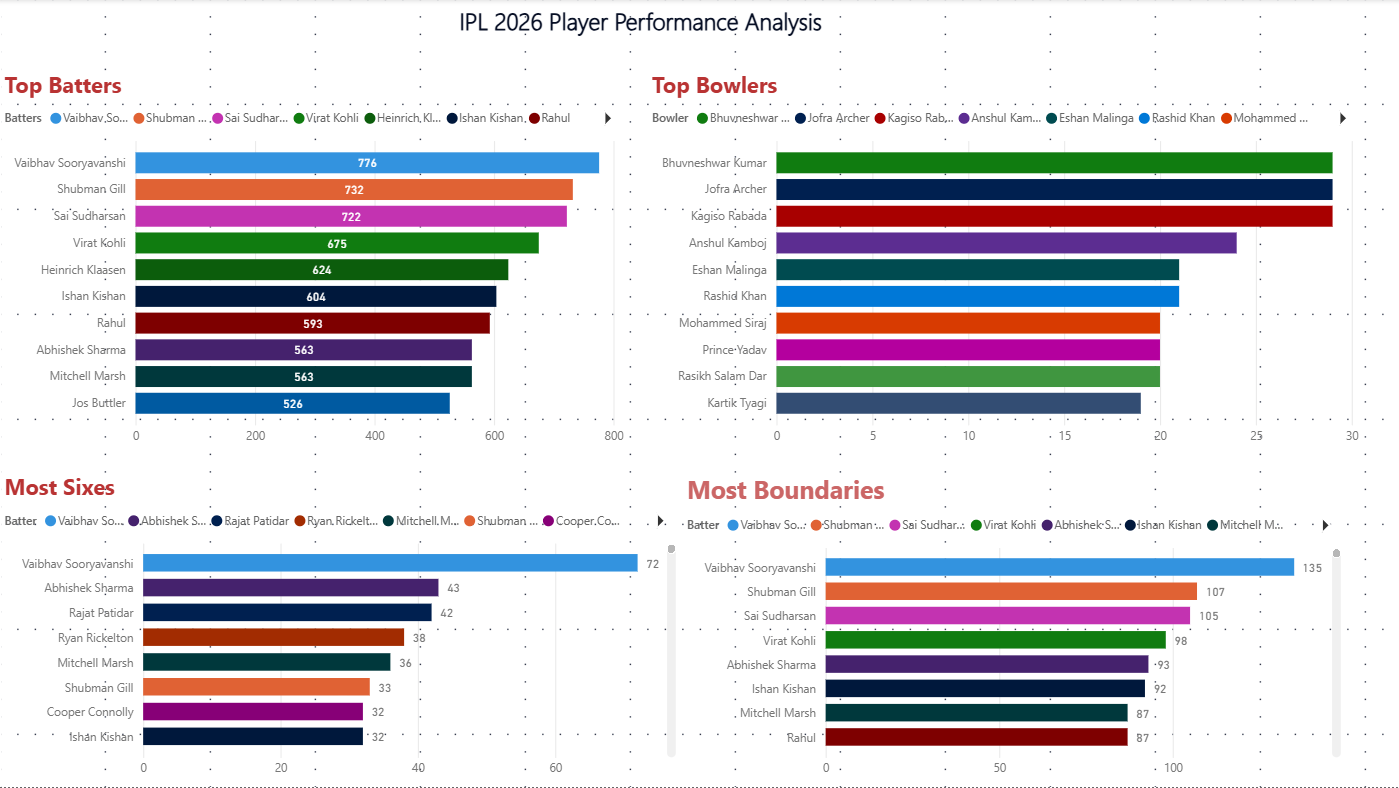

The dashboard page shown, as its layout file describes it:
{"tool":"powerbi","page":{"name":"Player analysis","canvas":[1280,720],"ordinal":2},"visuals":[{"type":"textbox","box":[416,0,400,48],"z":0},{"type":"barChart","title":"Top Batters","fields":{"Category":["ipl_2026_cleaned.striker"],"Y":["ipl_2026_cleaned.Orange Cap Runs"],"Series":["ipl_2026_cleaned.striker"]},"box":[0,64,592,352],"z":1000},{"type":"barChart","title":"Top Bowlers","fields":{"Category":["ipl_2026_cleaned.bowler"],"Y":["ipl_2026_cleaned.Purple Cap Wickets"],"Series":["ipl_2026_cleaned.bowler"]},"box":[592,64,656,352],"z":2000},{"type":"barChart","title":"Most Sixes","fields":{"Category":["ipl_2026_cleaned.striker"],"Y":["ipl_2026_cleaned.total_sixes"],"Series":["ipl_2026_cleaned.striker"]},"box":[0,432,640,288],"z":3000},{"type":"barChart","title":"Most Boundaries","fields":{"Category":["ipl_2026_cleaned.striker"],"Y":["Sum(ipl_2026_cleaned.is_boundary)"],"Series":["ipl_2026_cleaned.striker"]},"box":[640,432,608,288],"z":4000}]}

Visuals, with their boxes in screenshot pixels (x1, y1, x2, y2), scaled from the page's 1280x720 canvas onto the 1399x788 screenshot:
textbox: crop(455, 0, 892, 53)
"Top Batters" barChart: crop(0, 70, 647, 455)
"Top Bowlers" barChart: crop(647, 70, 1364, 455)
"Most Sixes" barChart: crop(0, 473, 700, 787)
"Most Boundaries" barChart: crop(700, 473, 1364, 787)
